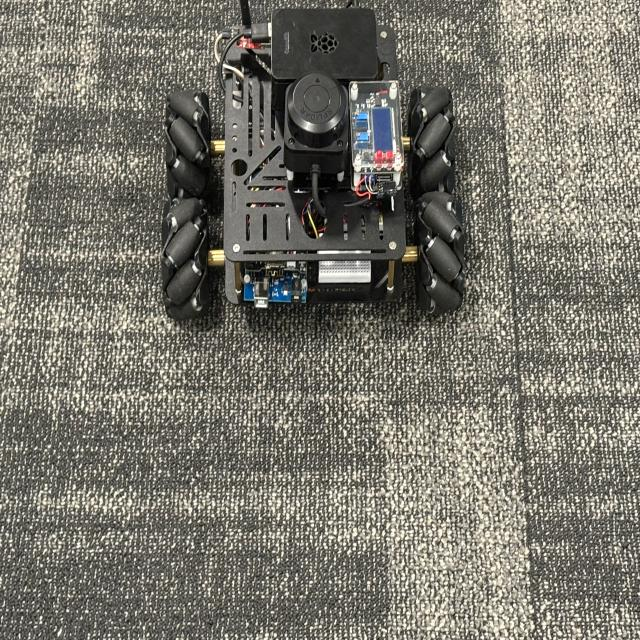ArduinoCar3: (156, 6, 470, 336)
